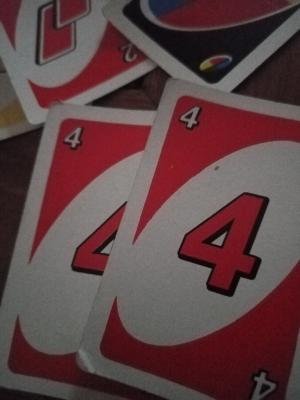-2: (27, 1, 101, 69)
colour: (194, 47, 237, 83)
num_4: (64, 192, 131, 283), (243, 365, 284, 400)
